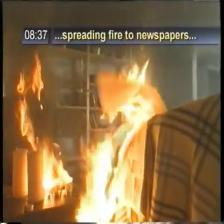fire: (75, 132, 117, 222), (16, 72, 39, 151), (41, 138, 74, 189), (32, 51, 45, 100), (137, 59, 149, 83), (127, 60, 138, 81)
